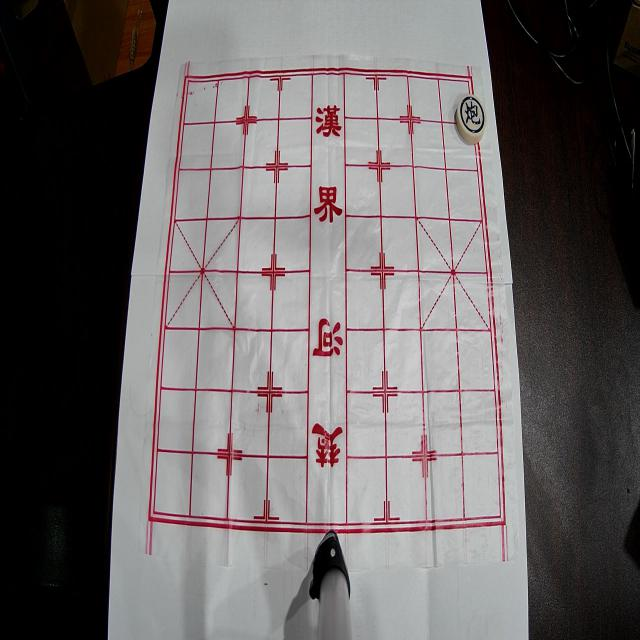black-cannon: (456, 94, 486, 144)
